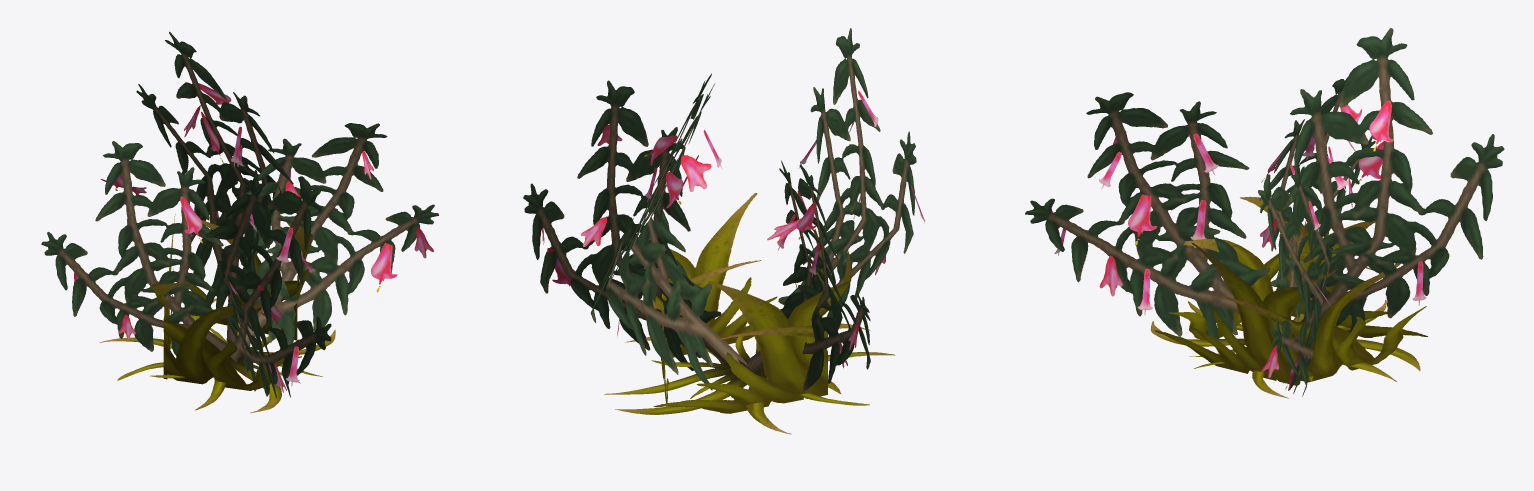
The model's file is plantC.fbx.
3 renders of one model, left to right at view 1: azimuth 30°, elevation 25°; view 2: azimuth 150°, elevation 25°; view 3: azimuth 270°, elevation 25°, orthographic. The views are drawn at different scales.
Parts seen in each view (by area): view 1: plantC; view 2: plantC; view 3: plantC.
Part boxes in pixels (bbox=[...]): plantC: bbox=[41, 31, 438, 413]; plantC: bbox=[523, 28, 925, 434]; plantC: bbox=[1025, 28, 1504, 398].
Bounding box in the file's own units: 202 × 189 × 228.
1 material, 1 textured.
